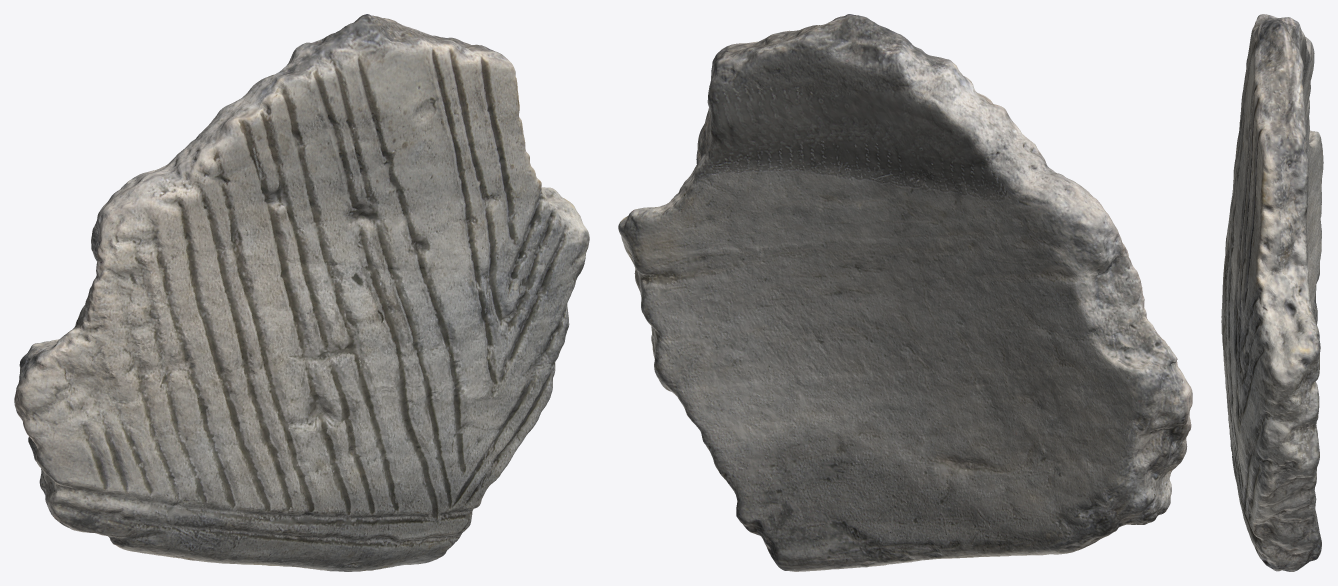
The model's file is POT3.glb.
The picture shows the model from 3 angles, left to right: view 1: azimuth 30°, elevation 25°; view 2: azimuth 150°, elevation 25°; view 3: azimuth 270°, elevation 25°; orthographic projection. The views are drawn at different scales.
Visible parts, largest first — view 1: POT3/0004_fpan_photogrammetry_sherd_Object_4, POT3/0003_fpan_photogrammetry_sherd_Object_5, POT3/0005_fpan_photogrammetry_sherd_Object_3, POT3/0002_fpan_photogrammetry_sherd_Object_6, POT3/0001_fpan_photogrammetry_sherd_Object_7, POT3/0006_fpan_photogrammetry_sherd_Object_2, POT3/0000_fpan_photogrammetry_sherd_Object_8; view 2: POT3/0002_fpan_photogrammetry_sherd_Object_6, POT3/0001_fpan_photogrammetry_sherd_Object_7, POT3/0006_fpan_photogrammetry_sherd_Object_2, POT3/0005_fpan_photogrammetry_sherd_Object_3, POT3/0003_fpan_photogrammetry_sherd_Object_5, POT3/0000_fpan_photogrammetry_sherd_Object_8, POT3/0004_fpan_photogrammetry_sherd_Object_4; view 3: POT3/0006_fpan_photogrammetry_sherd_Object_2, POT3/0001_fpan_photogrammetry_sherd_Object_7, POT3/0002_fpan_photogrammetry_sherd_Object_6, POT3/0005_fpan_photogrammetry_sherd_Object_3, POT3/0003_fpan_photogrammetry_sherd_Object_5, POT3/0000_fpan_photogrammetry_sherd_Object_8, POT3/0004_fpan_photogrammetry_sherd_Object_4.
Part boxes in pixels (x1=…): POT3/0004_fpan_photogrammetry_sherd_Object_4: x1=14, y1=22, x2=389, y2=508; POT3/0003_fpan_photogrammetry_sherd_Object_5: x1=16, y1=25, x2=503, y2=561; POT3/0005_fpan_photogrammetry_sherd_Object_3: x1=28, y1=14, x2=449, y2=545; POT3/0002_fpan_photogrammetry_sherd_Object_6: x1=166, y1=37, x2=535, y2=566; POT3/0001_fpan_photogrammetry_sherd_Object_7: x1=280, y1=164, x2=583, y2=571; POT3/0006_fpan_photogrammetry_sherd_Object_2: x1=110, y1=18, x2=567, y2=564; POT3/0000_fpan_photogrammetry_sherd_Object_8: x1=371, y1=187, x2=589, y2=570; POT3/0002_fpan_photogrammetry_sherd_Object_6: x1=706, y1=43, x2=1096, y2=556; POT3/0001_fpan_photogrammetry_sherd_Object_7: x1=663, y1=92, x2=1008, y2=564; POT3/0006_fpan_photogrammetry_sherd_Object_2: x1=618, y1=27, x2=1145, y2=571; POT3/0005_fpan_photogrammetry_sherd_Object_3: x1=797, y1=14, x2=1171, y2=524; POT3/0003_fpan_photogrammetry_sherd_Object_5: x1=737, y1=22, x2=1185, y2=548; POT3/0000_fpan_photogrammetry_sherd_Object_8: x1=625, y1=205, x2=896, y2=568; POT3/0004_fpan_photogrammetry_sherd_Object_4: x1=866, y1=17, x2=1192, y2=491; POT3/0006_fpan_photogrammetry_sherd_Object_2: x1=1222, y1=47, x2=1321, y2=571; POT3/0001_fpan_photogrammetry_sherd_Object_7: x1=1230, y1=172, x2=1311, y2=529; POT3/0002_fpan_photogrammetry_sherd_Object_6: x1=1222, y1=97, x2=1317, y2=463; POT3/0005_fpan_photogrammetry_sherd_Object_3: x1=1225, y1=17, x2=1323, y2=253; POT3/0003_fpan_photogrammetry_sherd_Object_5: x1=1221, y1=17, x2=1320, y2=359; POT3/0000_fpan_photogrammetry_sherd_Object_8: x1=1246, y1=303, x2=1318, y2=556; POT3/0004_fpan_photogrammetry_sherd_Object_4: x1=1235, y1=14, x2=1318, y2=159.
Bounding box in the file's own units: 0.1367 × 0.13 × 0.0231.
1 material, 1 textured.
